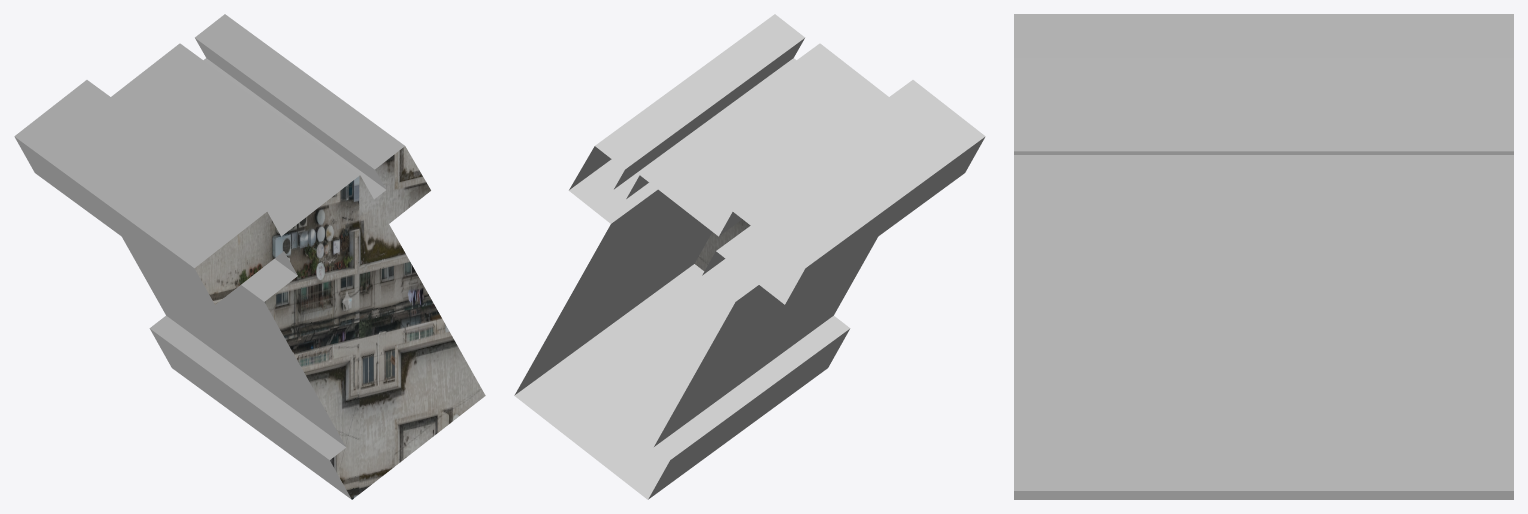
The model's file is geospecific_1590.obj.
The picture shows the model from 3 angles, left to right: view 1: azimuth 30°, elevation 25°; view 2: azimuth 150°, elevation 25°; view 3: azimuth 270°, elevation 25°; orthographic projection. The views are drawn at different scales.
Visible parts, largest first — view 1: Building; view 2: Building; view 3: Building.
Boxes of the visible parts, box(x1,y1,x2,y2) form: Building: box(14, 14, 485, 499); Building: box(514, 14, 985, 499); Building: box(1014, 14, 1513, 499).
Size of the model in its own units: 19.58 by 21.92 by 21.
